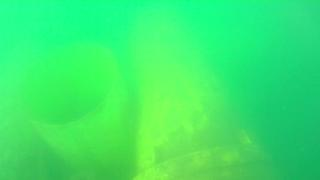pipe: (130, 27, 282, 180), (15, 31, 131, 170)
